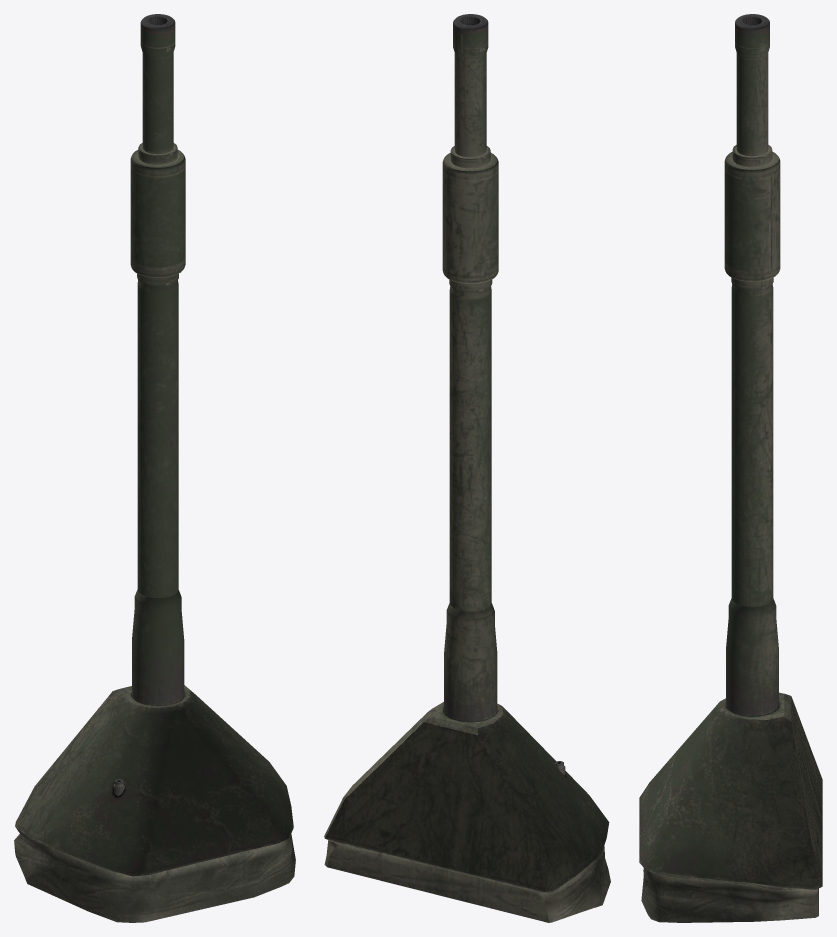
File: Gun_06.glb
The picture shows the model from 3 angles, left to right: view 1: azimuth 30°, elevation 25°; view 2: azimuth 150°, elevation 25°; view 3: azimuth 270°, elevation 25°; orthographic projection. The views are drawn at different scales.
Visible parts, largest first — view 1: set_0_group_0; view 2: set_0_group_0; view 3: set_0_group_0.
Part boxes in pixels (x1,y1,x2,y2): set_0_group_0: (14,14,295,922); set_0_group_0: (324,14,610,922); set_0_group_0: (639,14,822,922).
Bounding box in the file's own units: 1.16 × 3.61 × 0.6977.
Materials: 1 (1 with a texture image).
